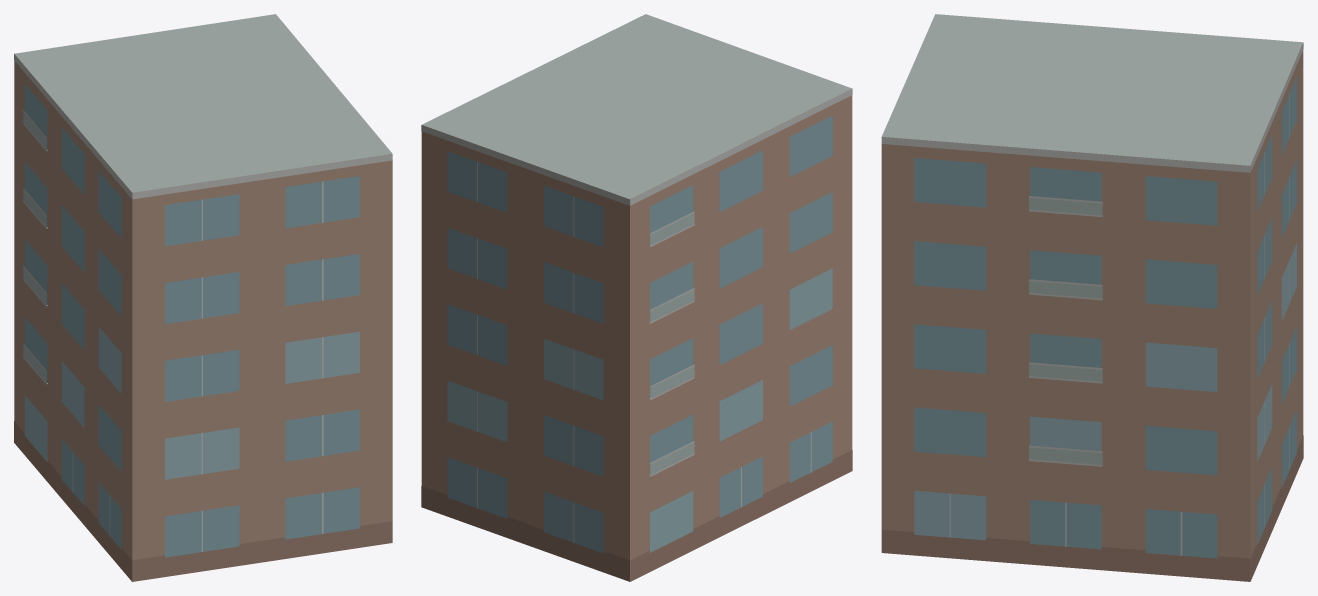
The model's file is survey-upis-32995070.glb.
3 views of the same model, side by side, from view 1: azimuth 30°, elevation 25°; view 2: azimuth 150°, elevation 25°; view 3: azimuth 270°, elevation 25° (orthographic). The views are drawn at different scales.
Visible parts, largest first — view 1: survey-upis-32995070.tmp; view 2: survey-upis-32995070.tmp; view 3: survey-upis-32995070.tmp.
Part boxes in pixels (x1,y1,x2,y2): survey-upis-32995070.tmp: (14,14,392,581); survey-upis-32995070.tmp: (421,14,852,581); survey-upis-32995070.tmp: (881,14,1303,581).
Size of the model in its own units: 11.28 by 14.4 by 13.24.
